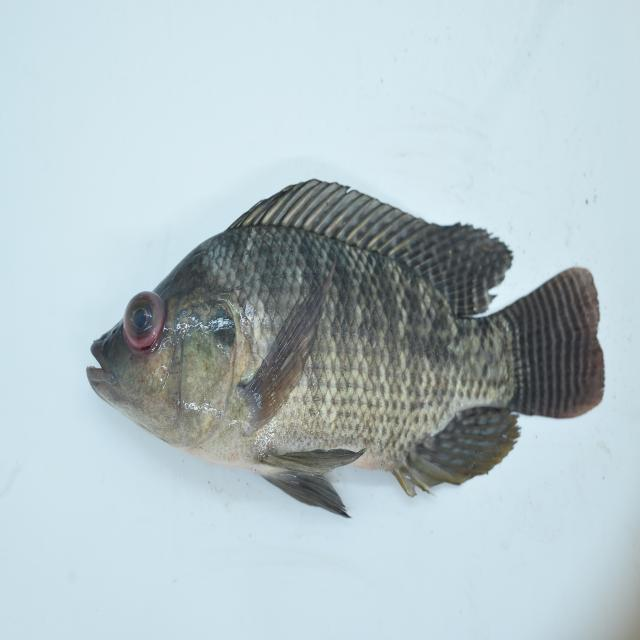streptococcus Disease: (82, 170, 608, 520)
